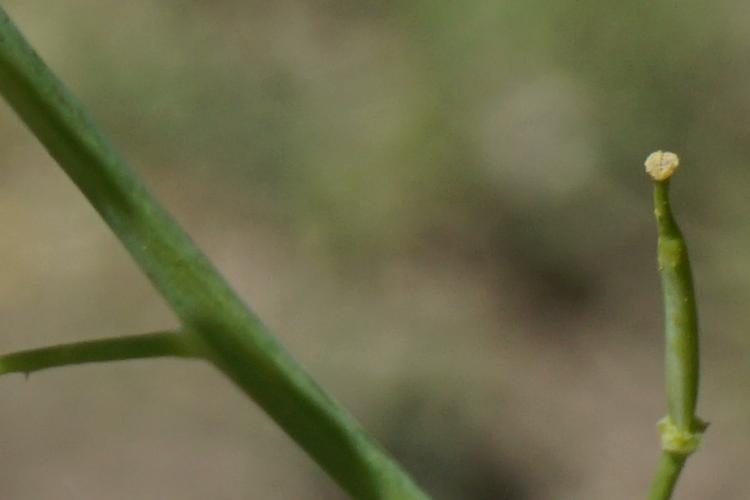pod: (631, 151, 717, 460)
